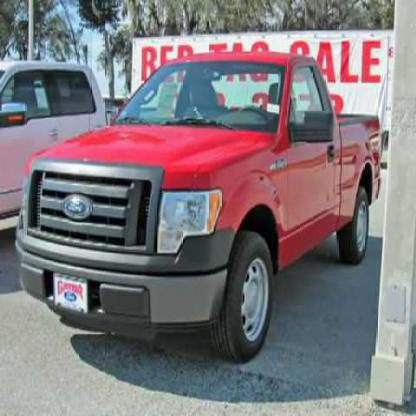Vehicle: (16, 51, 384, 363)
